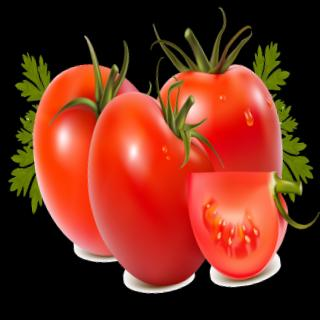Tomat: (147, 2, 288, 194), (185, 160, 315, 287)
